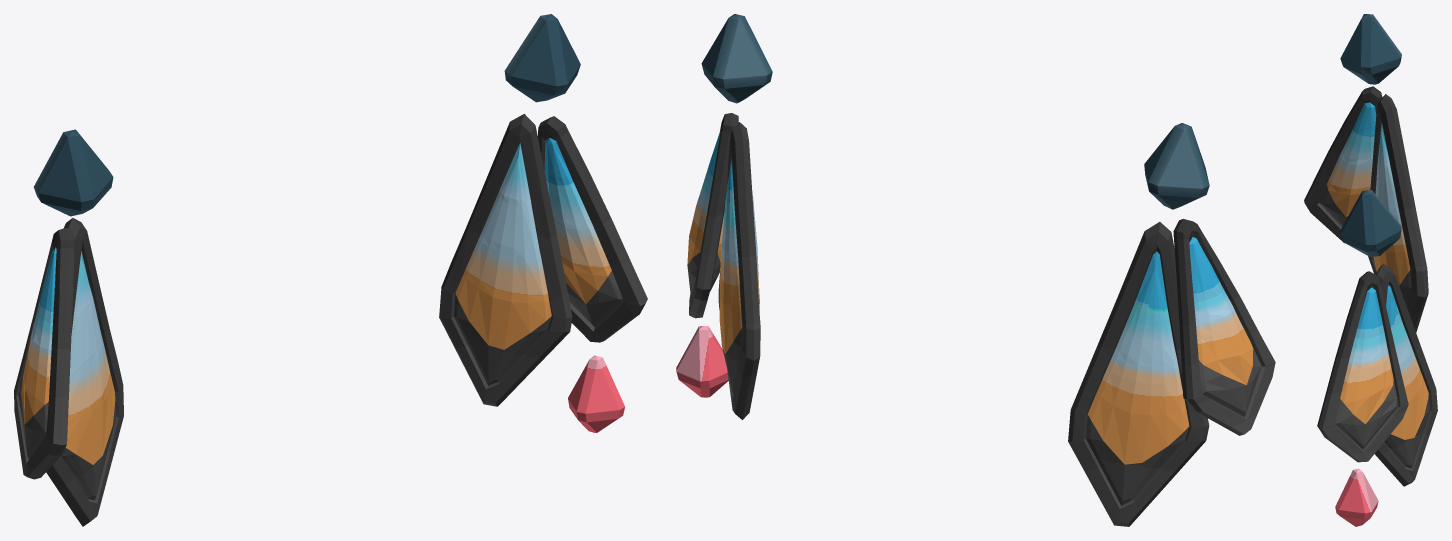
The model's file is CharSkyKid_Horn_DarkRainbowEarring.glb.
3 views of the same model, side by side, from view 1: azimuth 30°, elevation 25°; view 2: azimuth 150°, elevation 25°; view 3: azimuth 270°, elevation 25° (orthographic). The views are drawn at different scales.
Visible parts, largest first — view 1: CharSkyKid_Horn_DarkRainbowEarring; view 2: CharSkyKid_Horn_DarkRainbowEarring; view 3: CharSkyKid_Horn_DarkRainbowEarring.
Part boxes in pixels (x1,y1,x2,y2): CharSkyKid_Horn_DarkRainbowEarring: [14, 14, 647, 526]; CharSkyKid_Horn_DarkRainbowEarring: [676, 14, 1275, 526]; CharSkyKid_Horn_DarkRainbowEarring: [1304, 14, 1437, 526].
Bounding box in the file's own units: 2.93 × 1.95 × 0.738.
1 material, 1 textured.
